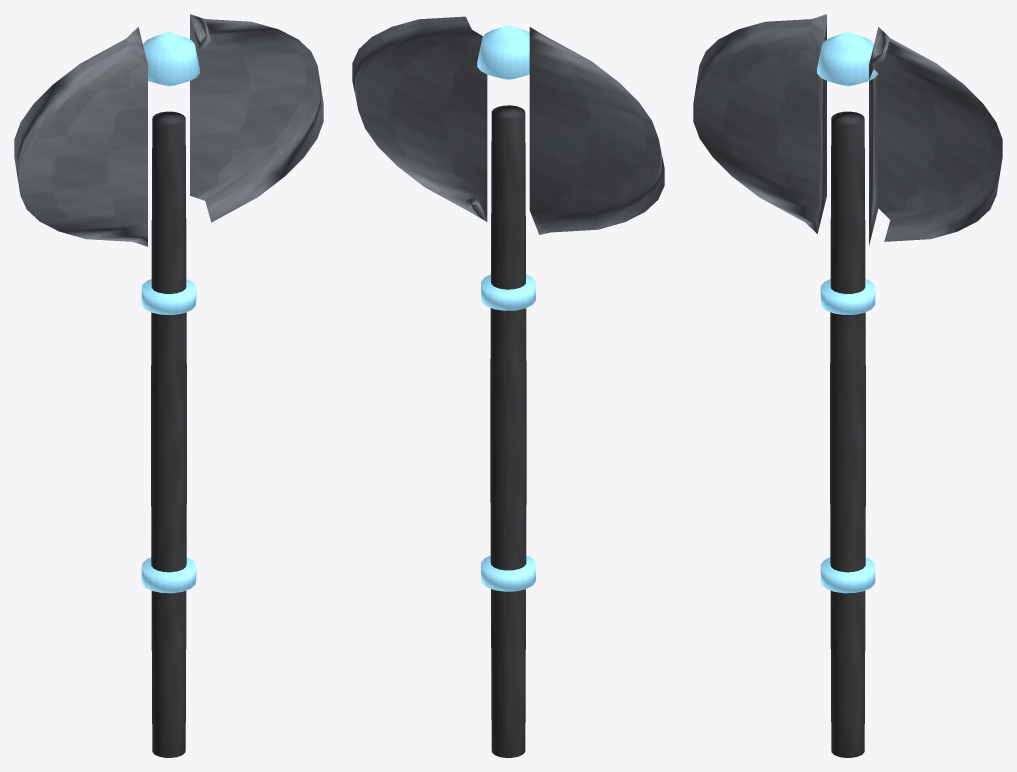
Rendered from generic_battleaxe_ice.glb.
The picture shows the model from 3 angles, left to right: view 1: azimuth 30°, elevation 25°; view 2: azimuth 150°, elevation 25°; view 3: azimuth 330°, elevation 25°; orthographic projection.
Visible parts, largest first — view 1: Battle Axe of Ice; view 2: Battle Axe of Ice; view 3: Battle Axe of Ice.
Part boxes in pixels (box(x1,y1,x2,y2)): Battle Axe of Ice: box(14, 14, 323, 757); Battle Axe of Ice: box(352, 16, 664, 757); Battle Axe of Ice: box(693, 14, 1002, 757).
Size of the model in its own units: 0.4019 by 0.92 by 0.0709.
Materials: 3 (3 with a texture image).
